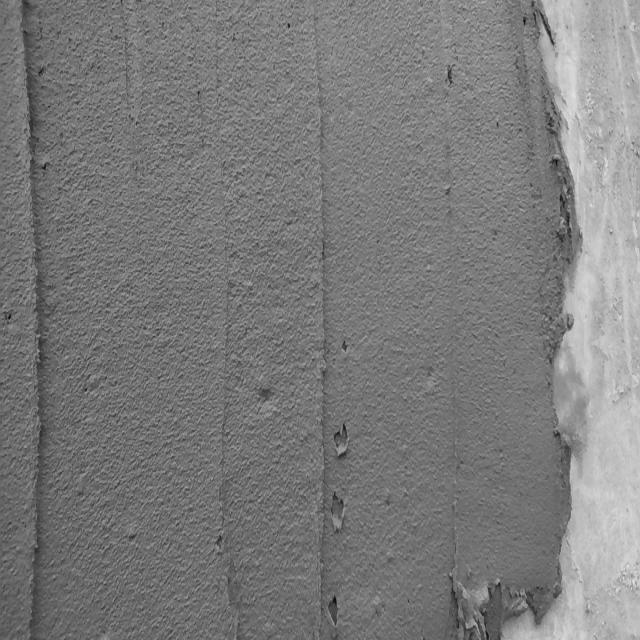trowels marks: (13, 0, 54, 637), (311, 43, 330, 639)
